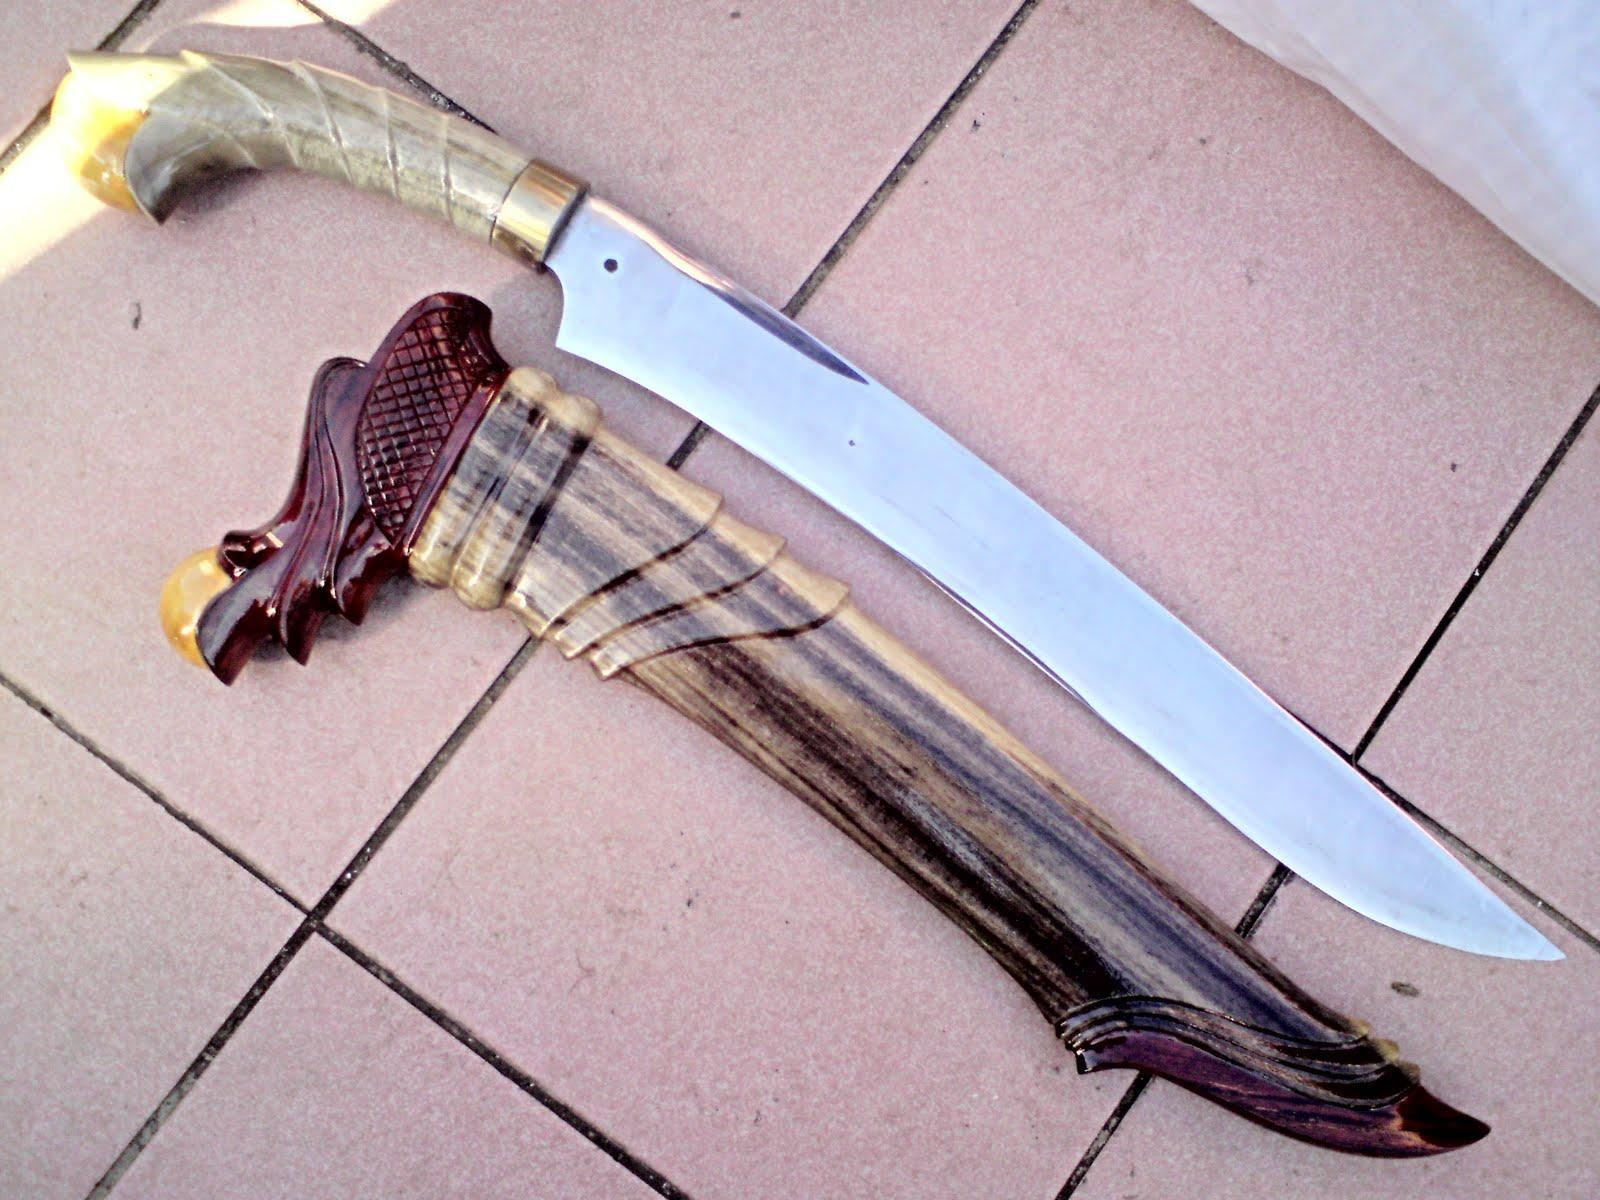espada: (50, 50, 1562, 961)
